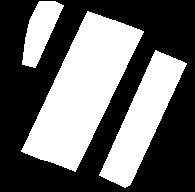parkingspot: (47, 20, 143, 171), (21, 11, 116, 161), (99, 50, 186, 187), (22, 1, 63, 67)
